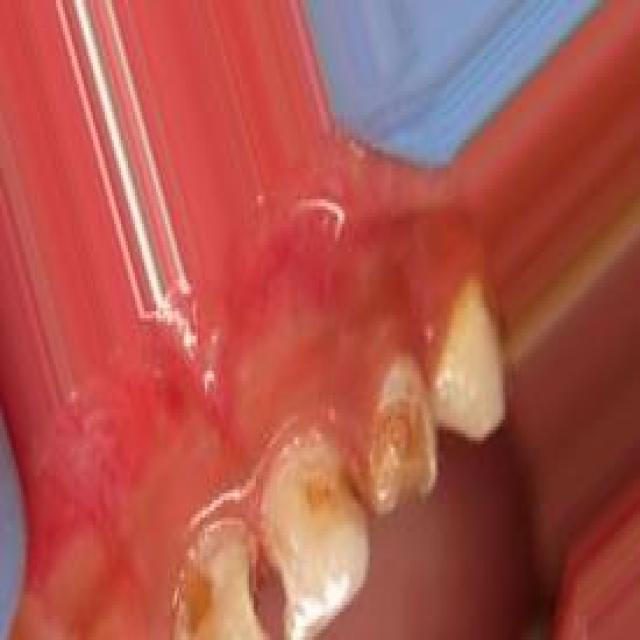caries: (292, 422, 373, 583), (180, 522, 284, 640), (370, 370, 439, 505)
